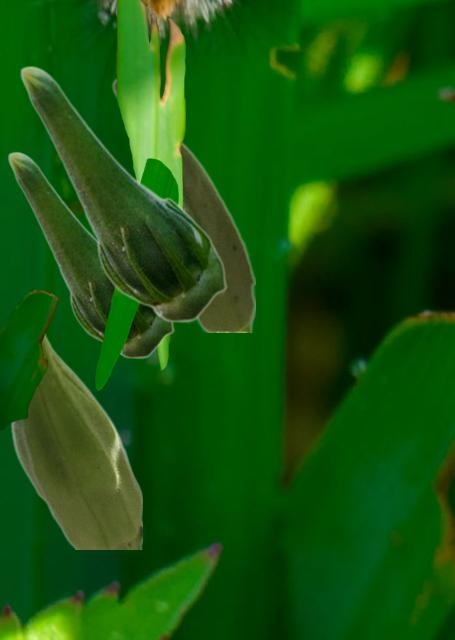okra: (19, 65, 226, 322), (111, 77, 254, 331), (7, 151, 173, 358), (10, 333, 141, 548)
